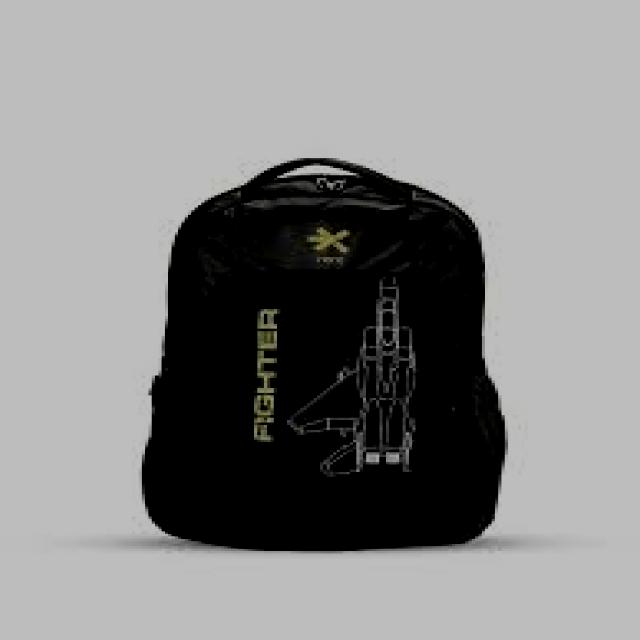backpack: (140, 157, 506, 550)
